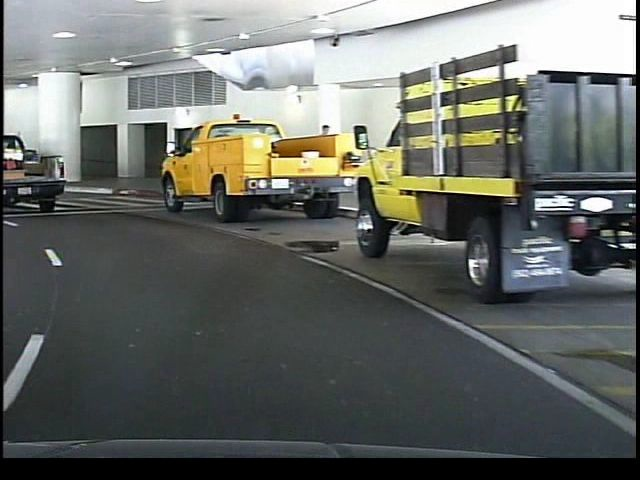person: (309, 119, 335, 199)
